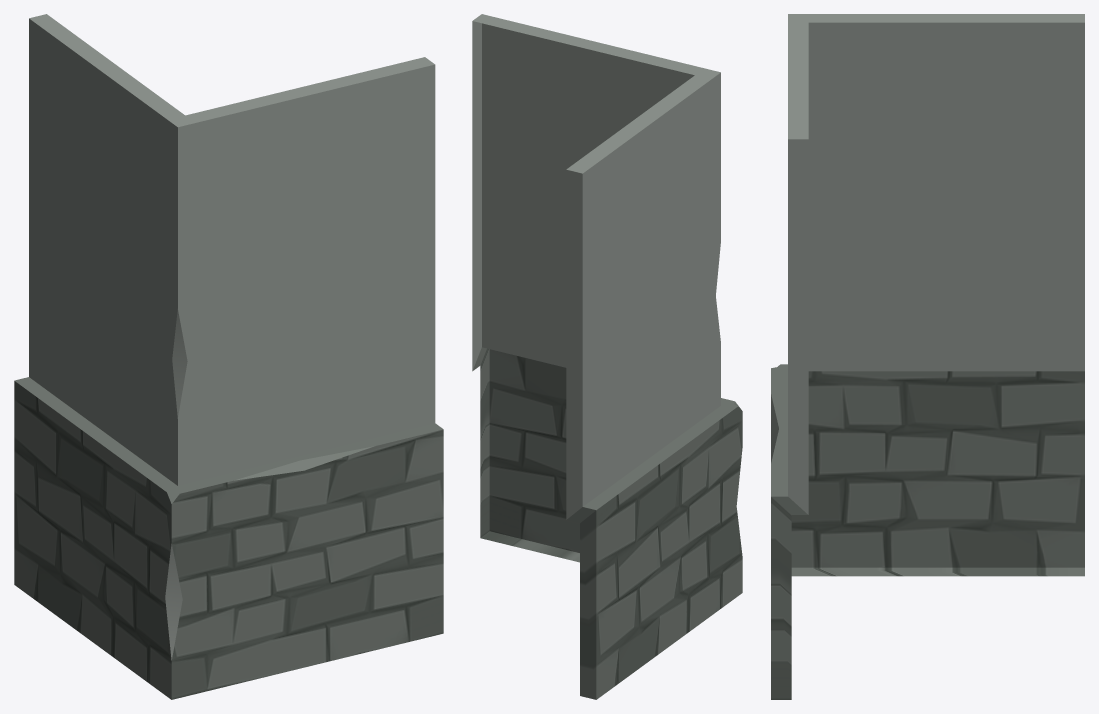
The model's file is SM_Env_Wall_18.fbx.
The picture shows the model from 3 angles, left to right: view 1: azimuth 30°, elevation 25°; view 2: azimuth 150°, elevation 25°; view 3: azimuth 270°, elevation 25°; orthographic projection. The views are drawn at different scales.
Parts seen in each view (by area): view 1: SM_Env_Wall_18; view 2: SM_Env_Wall_18; view 3: SM_Env_Wall_18.
Part boxes in pixels (<box>): SM_Env_Wall_18: <box>14,14,443,699</box>; SM_Env_Wall_18: <box>472,14,742,699</box>; SM_Env_Wall_18: <box>771,14,1084,699</box>.
Size of the model in its own units: 142 by 280 by 142.
1 material, 1 textured.
